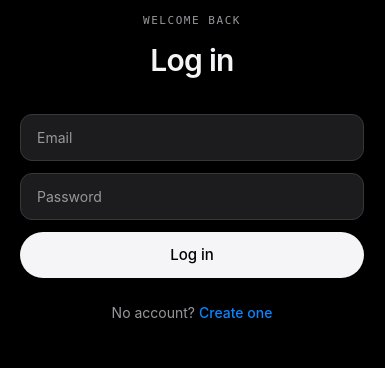
Test: LoginPage › shows the server's error message on failed login instead of navigating
In the field with placeholder "Email": (192, 137) x1=20 y1=114 x2=364 y2=160, type "customer@shopstart.dev"
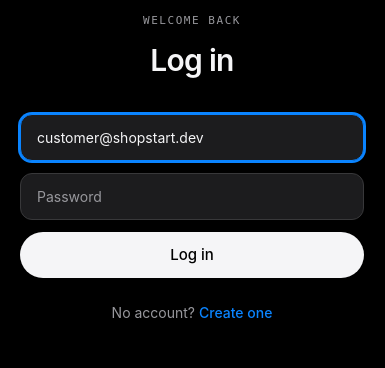
In the password field with placeholder "Password": (192, 196) x1=20 y1=172 x2=364 y2=220, type "wrong-password"
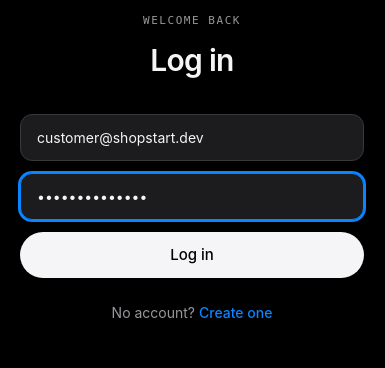
Click the button "Log in": (192, 255) x1=20 y1=232 x2=364 y2=278
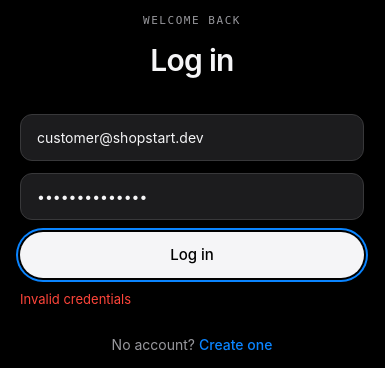
expect the text "Invalid credentials" is shown: met, box x1=20 y1=291 x2=131 y2=307
